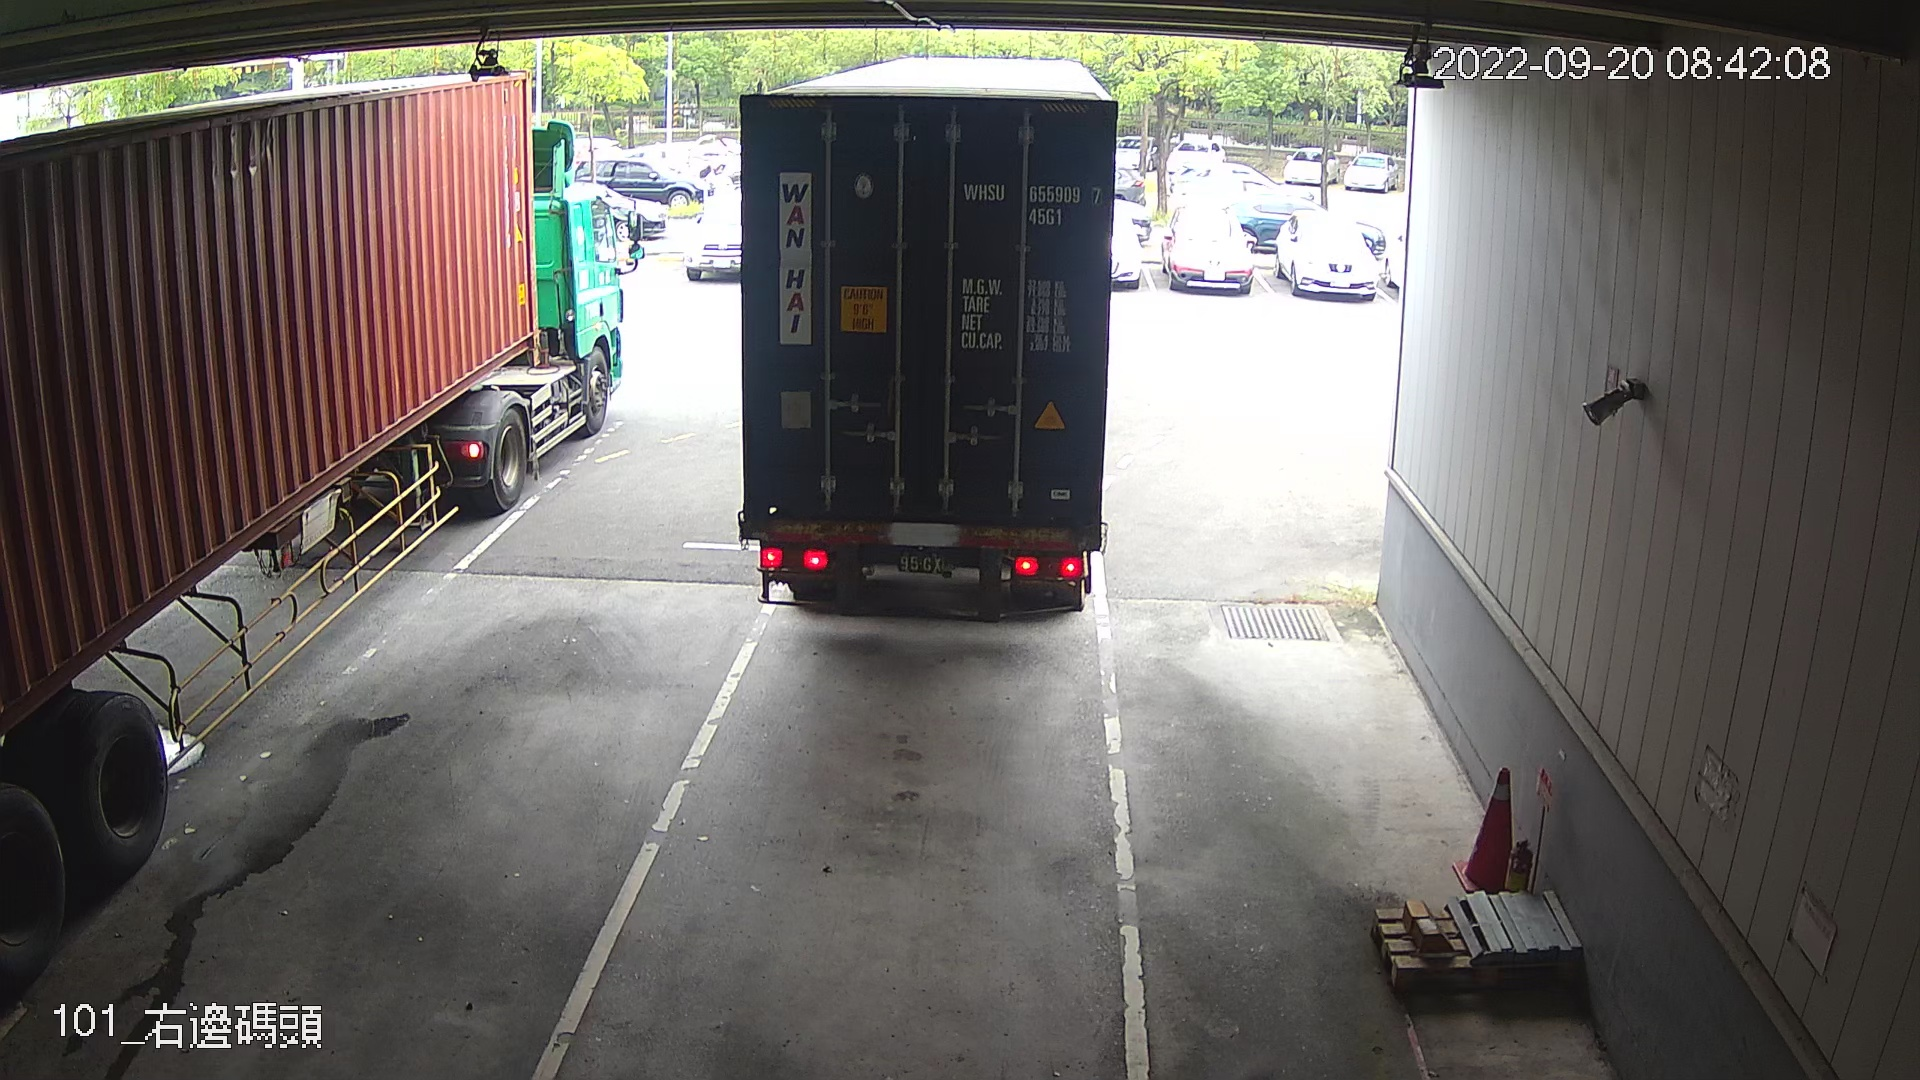container: (957, 173, 1106, 235)
